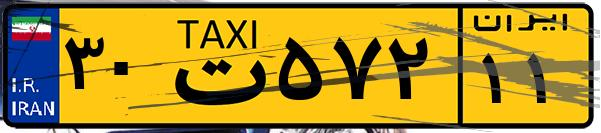0: (110, 28, 158, 98)
1: (475, 38, 525, 113), (525, 38, 570, 115)
2: (385, 28, 445, 110)
3: (57, 26, 110, 100)
5: (270, 28, 330, 110)
7: (330, 28, 385, 110)
ت: (158, 12, 270, 120)
